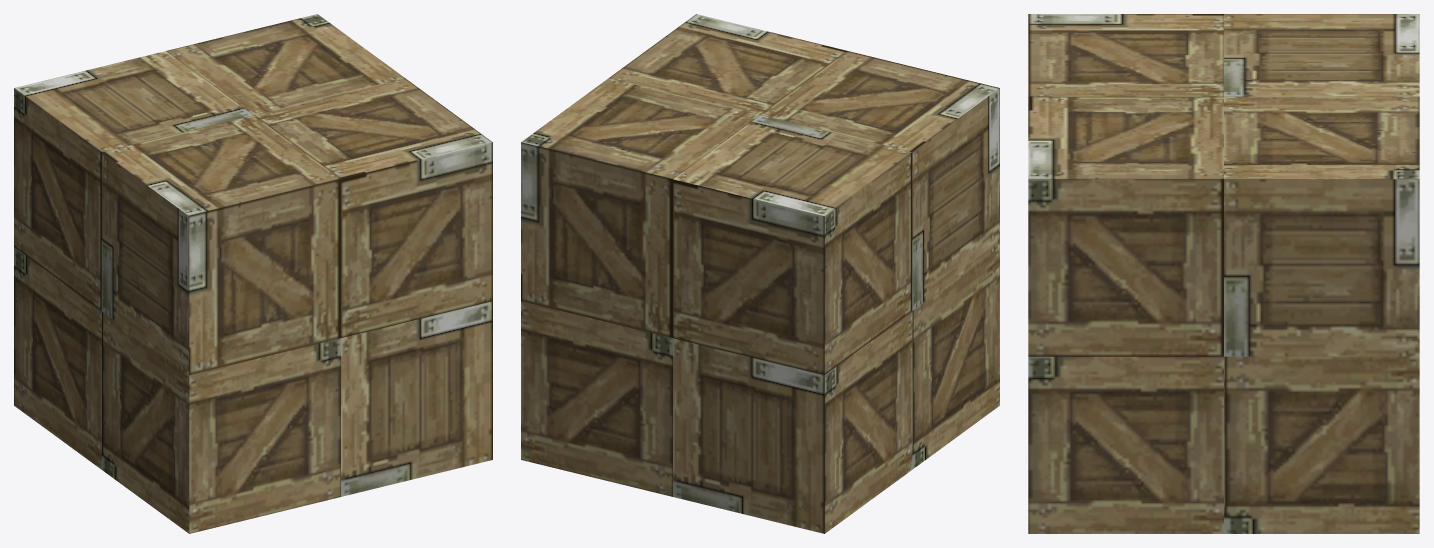
The model's file is nml-bd003.glb.
The picture shows the model from 3 angles, left to right: view 1: azimuth 30°, elevation 25°; view 2: azimuth 150°, elevation 25°; view 3: azimuth 270°, elevation 25°; orthographic projection. The views are drawn at different scales.
Parts seen in each view (by area): view 1: geom_node_0; view 2: geom_node_0; view 3: geom_node_0.
Part boxes in pixels (box(x1,y1,x2,y2)): geom_node_0: box(14, 14, 492, 533); geom_node_0: box(521, 14, 999, 533); geom_node_0: box(1028, 14, 1419, 533).
Size of the model in its own units: 2.4 by 2.4 by 2.4.
Materials: 1 (1 with a texture image).
